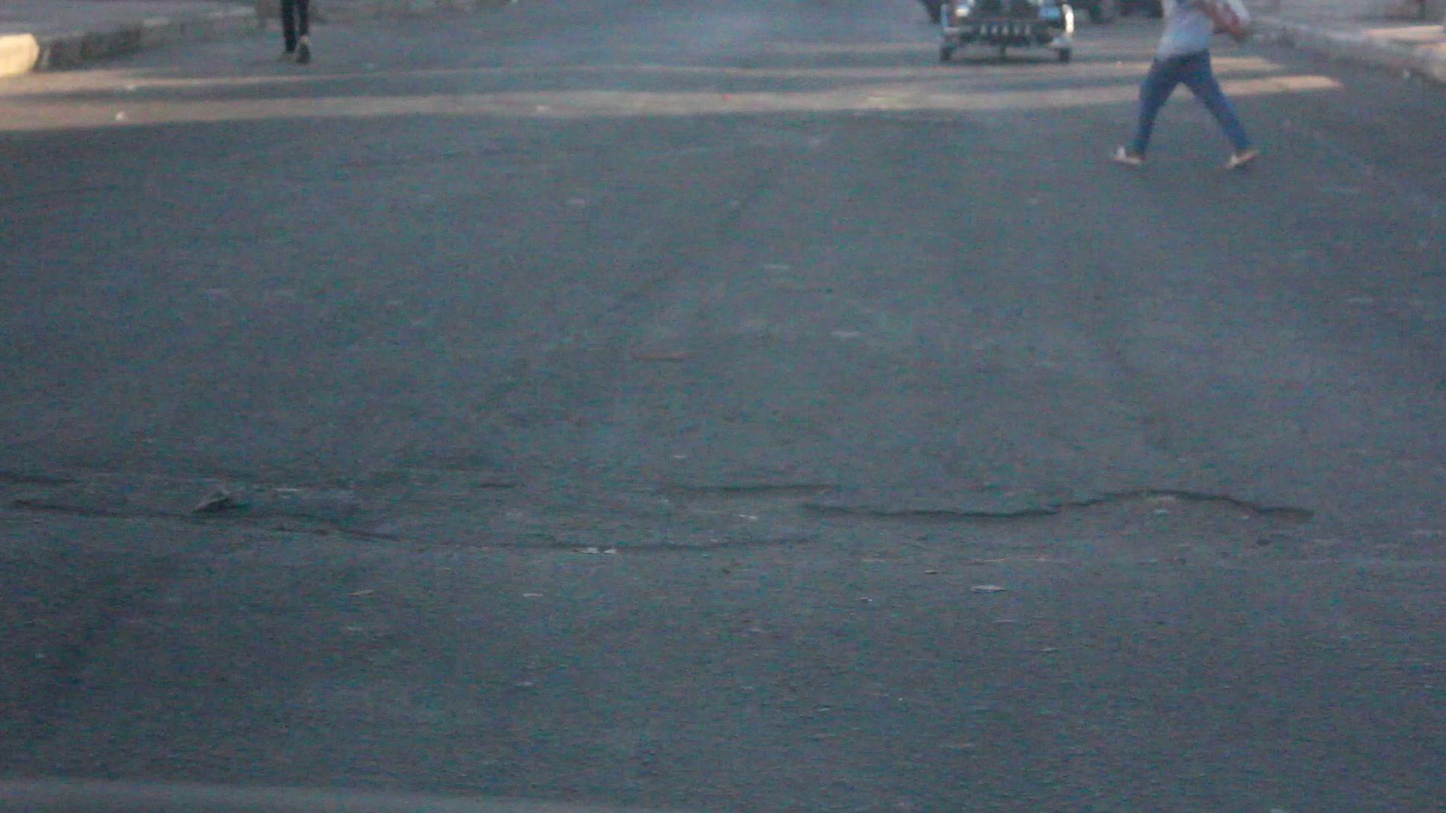Pothole: (655, 469, 1339, 589), (175, 465, 442, 589)
